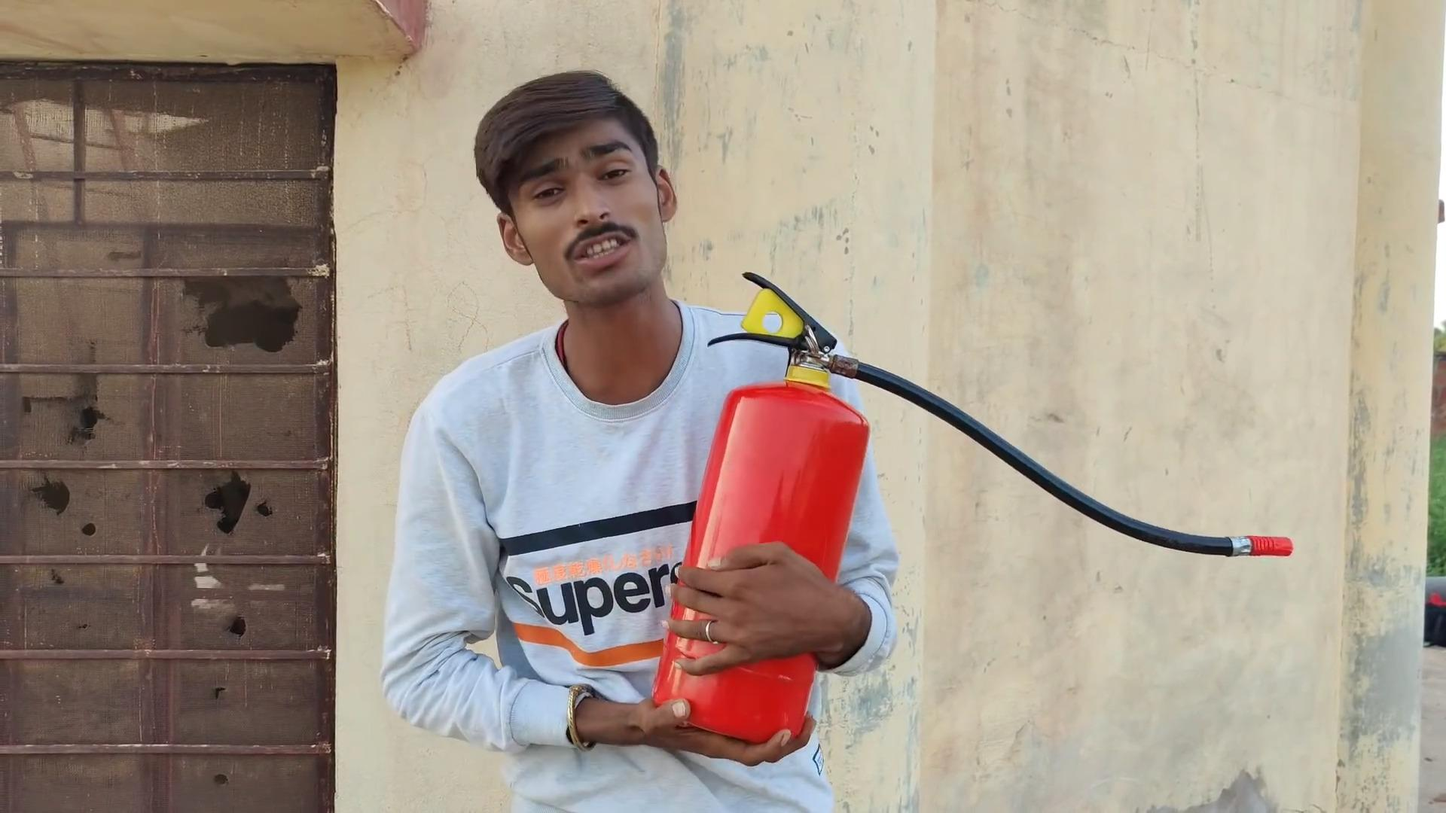FireExtinguisher: (634, 260, 912, 761)
